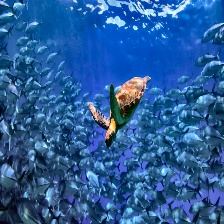seaturtle: (87, 76, 152, 148)
